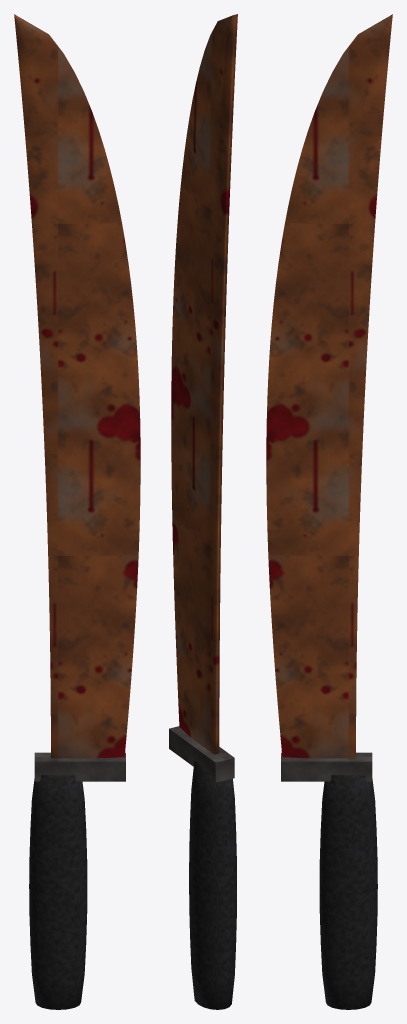
File: マチェーテ_machete.glb
3 views of the same model, side by side, from view 1: azimuth 90°, elevation 25°; view 2: azimuth 210°, elevation 25°; view 3: azimuth 270°, elevation 25° (orthographic).
Parts seen in each view (by area): view 1: machete; view 2: machete; view 3: machete.
Boxes of the visible parts, bbox=[...] form: machete: bbox=[14, 14, 140, 1009]; machete: bbox=[169, 14, 237, 1009]; machete: bbox=[266, 14, 392, 1009].
Size of the model in its own units: 0.0239 by 0.595 by 0.069.
3 materials, 3 textured.
